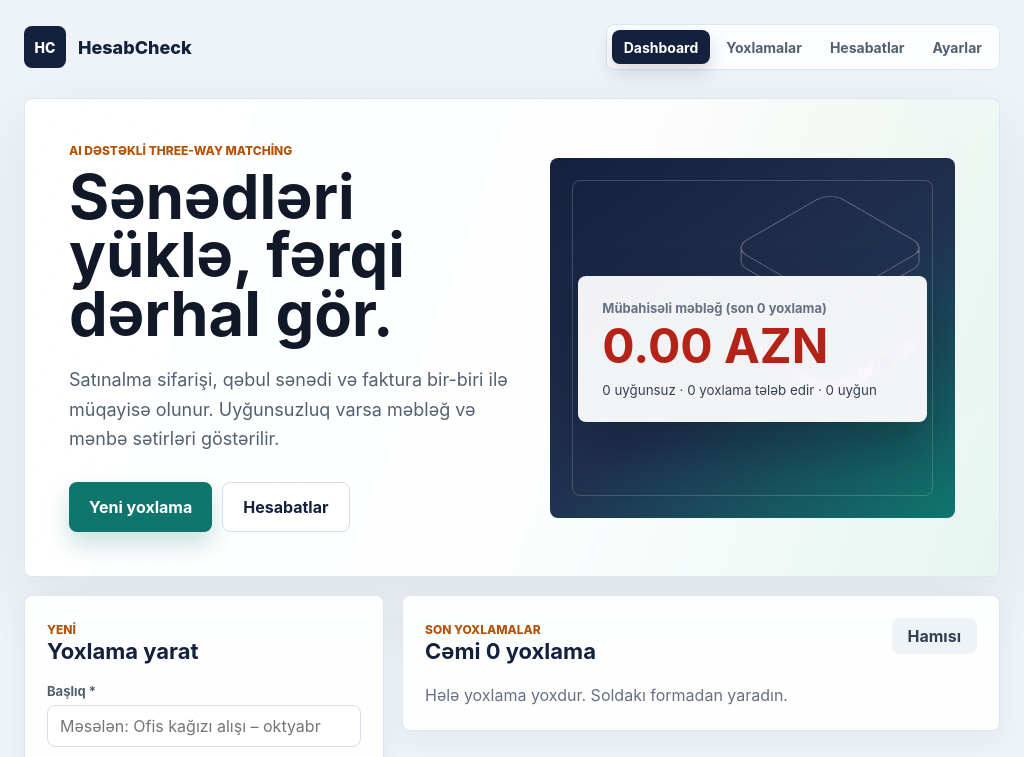
Test: Yoxlamalar › yeni yoxlama yaradır və onu açır
Click the button "Yoxlamalar": [764, 47] box [714,30,814,64]
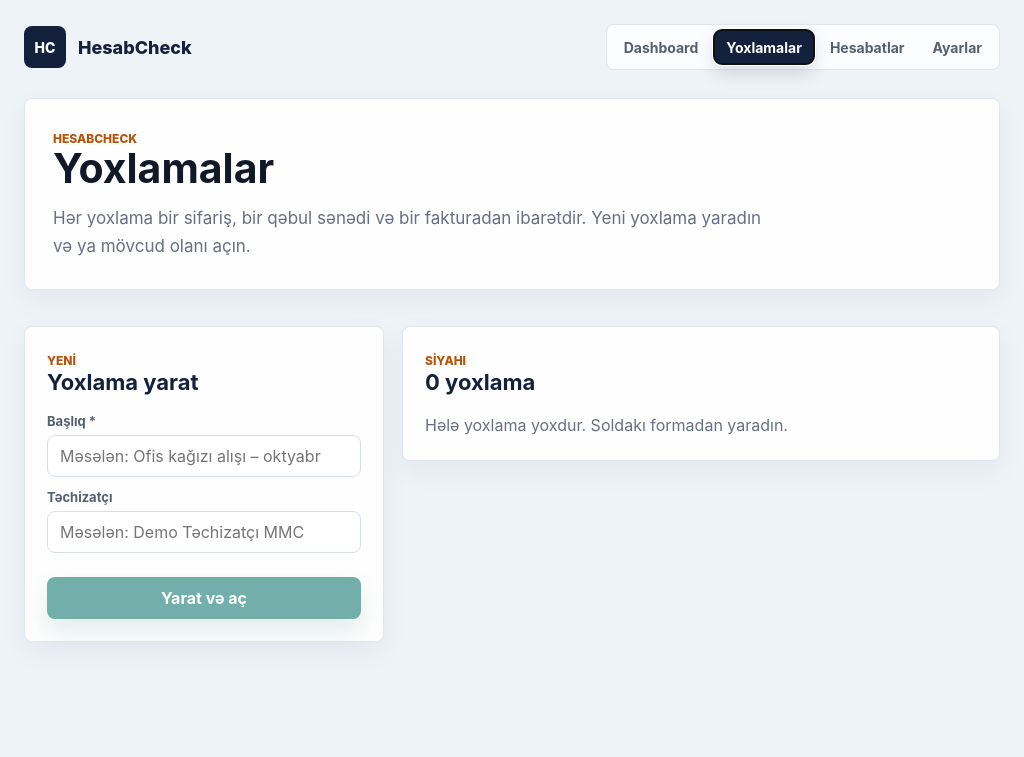
Expected: the button "Yarat və aç" is disabled, [47,577,361,619]
In the field labelled "Başlıq *": [204, 456] box [47,435,361,477], type "  Ofis kağızı – oktyabr "
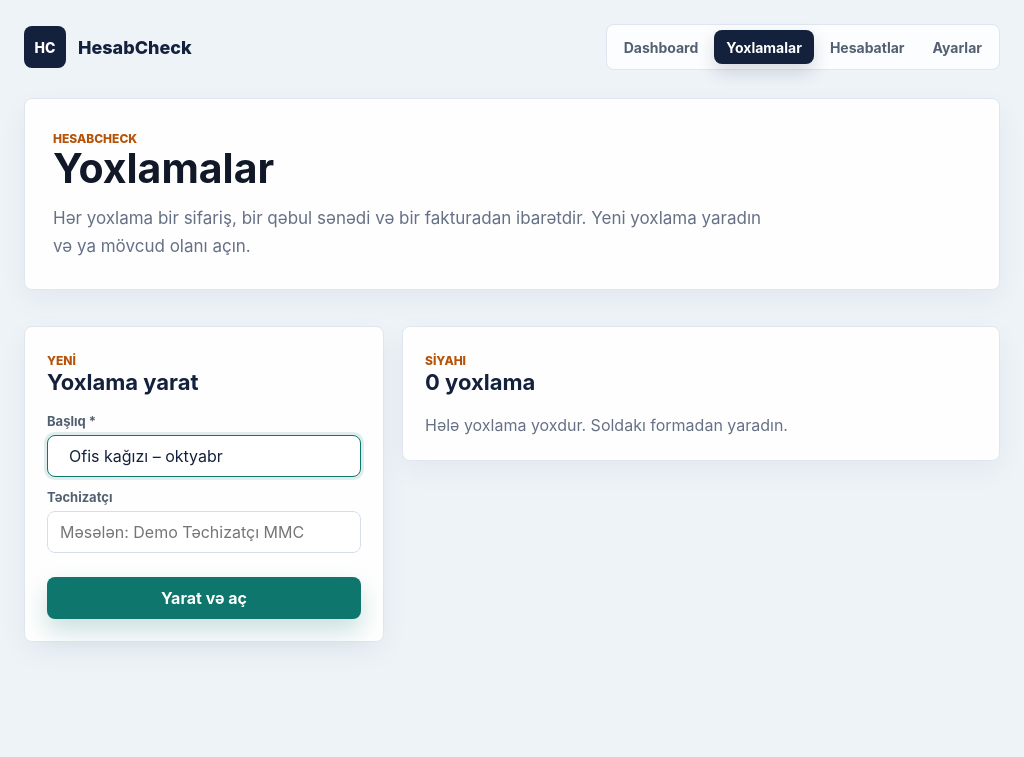
In the field labelled "Təchizatçı": [204, 532] box [47,511,361,553], type "Demo MMC"
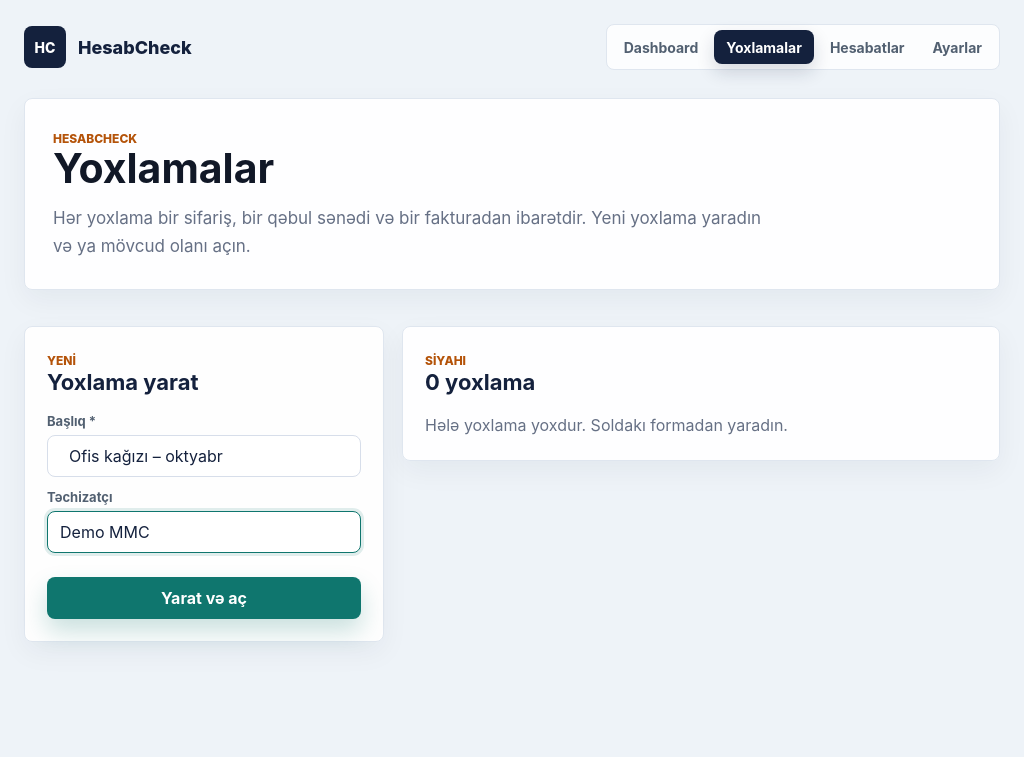
Click the button "Yarat və aç": [204, 598] box [47,577,361,619]
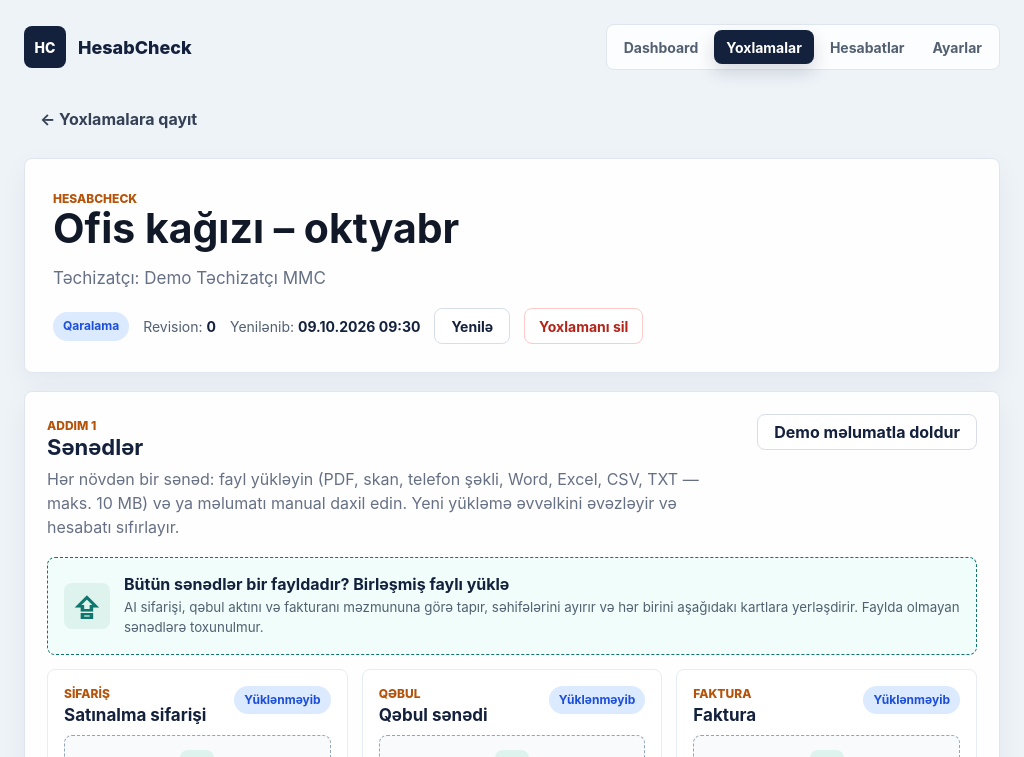
Expected: the heading "Ofis kağızı – oktyabr" is shown, [53,203,459,253]
